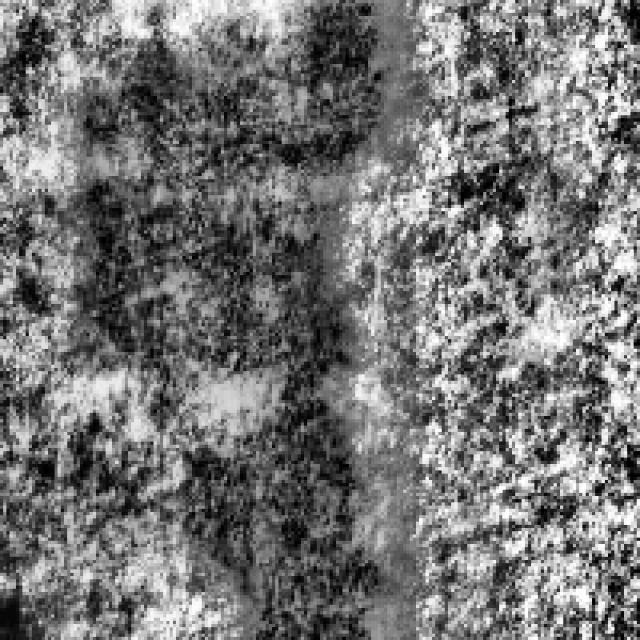Scratches: (90, 0, 388, 378), (179, 403, 387, 637)
